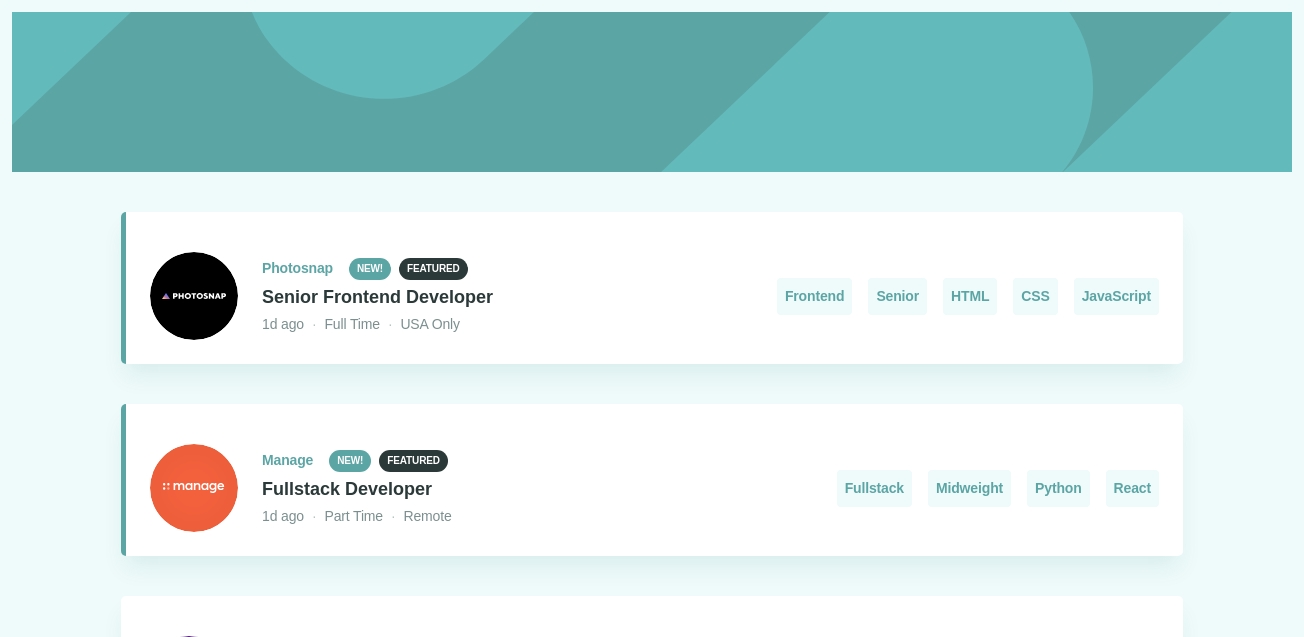
it: Job Listings App › clicking a tag adds  it as a filter
The width and height of the screenshot is (1304, 637).
Click the button "Frontend" in the row of "Senior Frontend Developer": (815, 297) [777, 278, 853, 315]
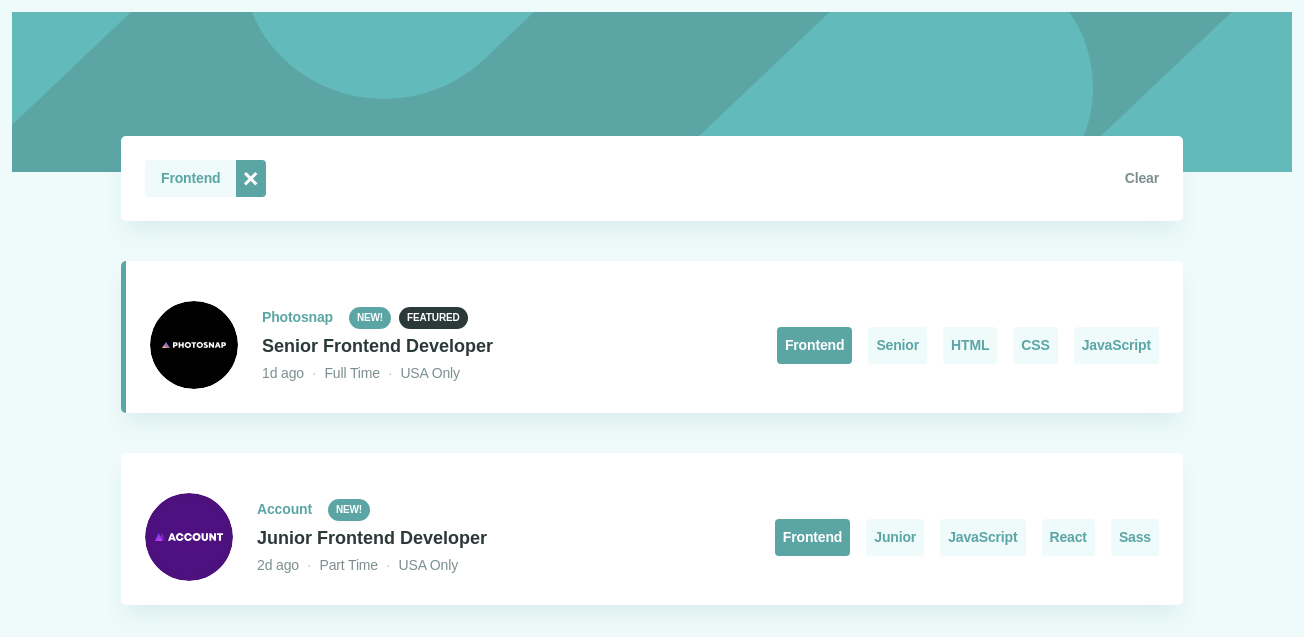
Expected: the heading with test id "job-card" shows "Frontend", [262, 336, 493, 356]
Expected: the text with class "filter-bar__filters" reads "Frontend", [161, 170, 220, 186]
